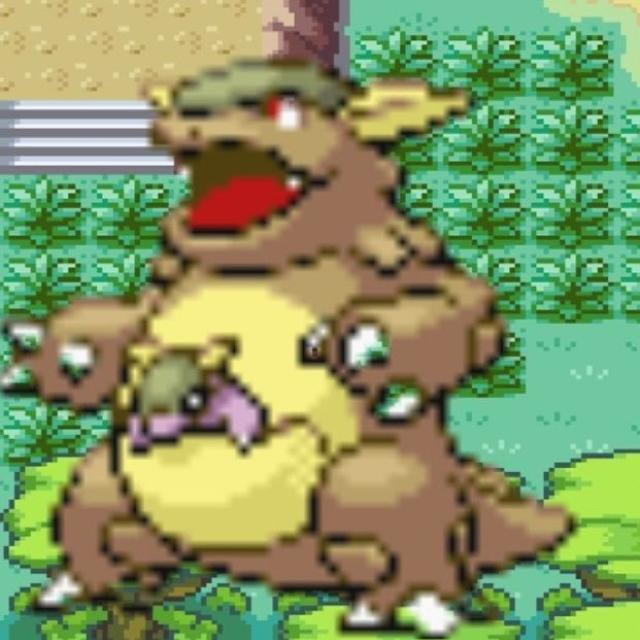Kangaskhan: (94, 57, 492, 608)
